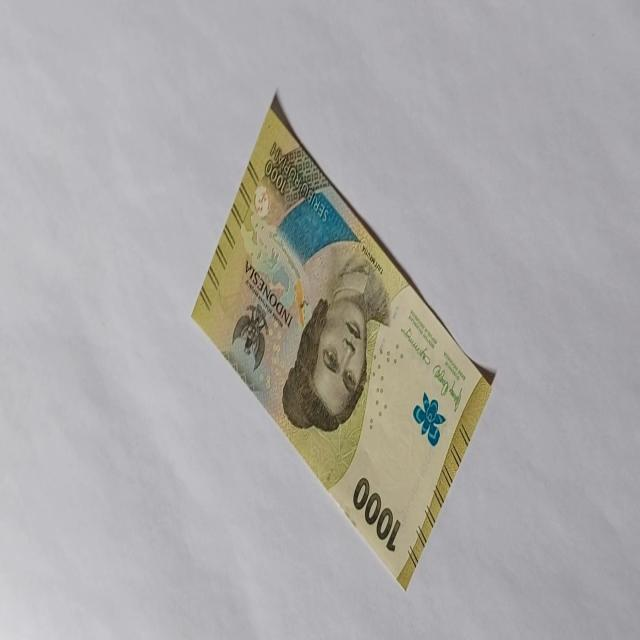seribu rupiah kertas: (190, 90, 495, 592)
